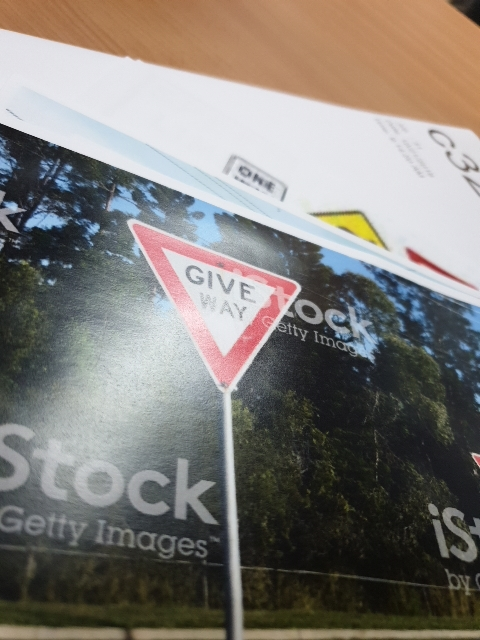giveway: (134, 232, 309, 392)
